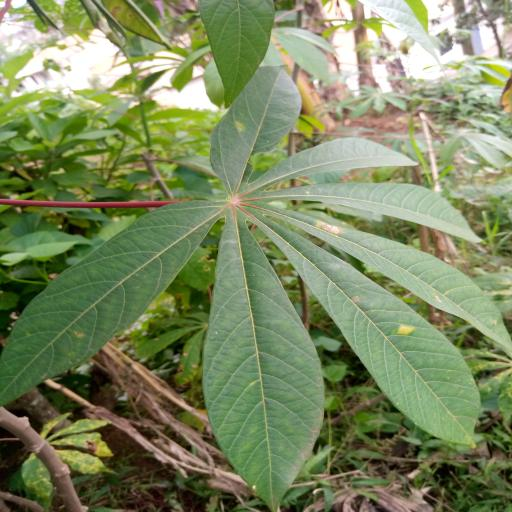Cassava_Brown_Leaf_Spot: (5, 67, 512, 507)
